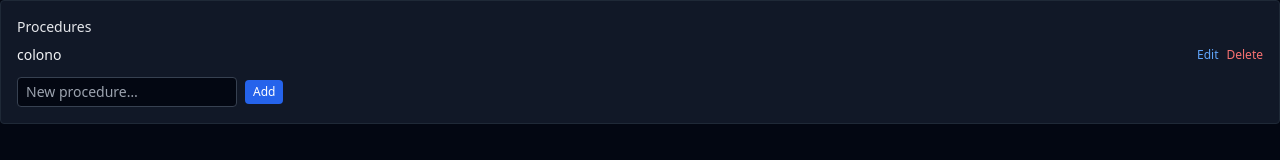
Test: ProceduresPanel › shows the 409 error message inline when a procedure still has categories
The width and height of the screenshot is (1280, 160).
Expected: the text "colono" is shown, [17, 45, 61, 65]
Click the button with aria-label "delete colono" at (1245, 55), box [1226, 47, 1263, 63]
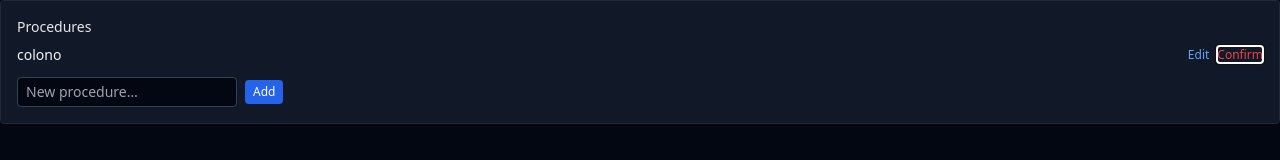
Click the button with aria-label "confirm delete colono" at (1240, 55), box [1217, 47, 1263, 63]
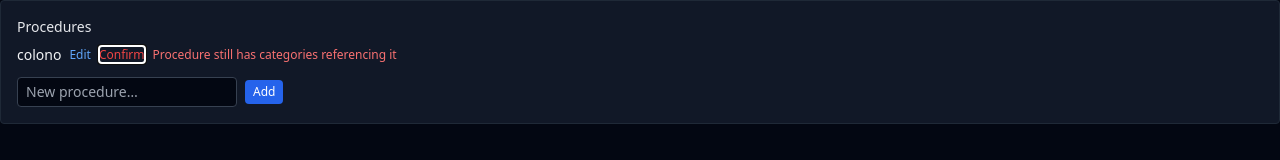
Now the text "Procedure still has categories referencing it" is shown, box [153, 46, 397, 63]
